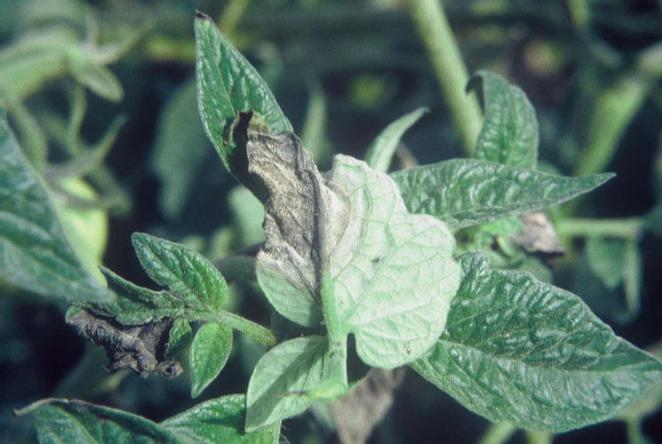Tomato leaf late blight: (169, 16, 470, 397)
